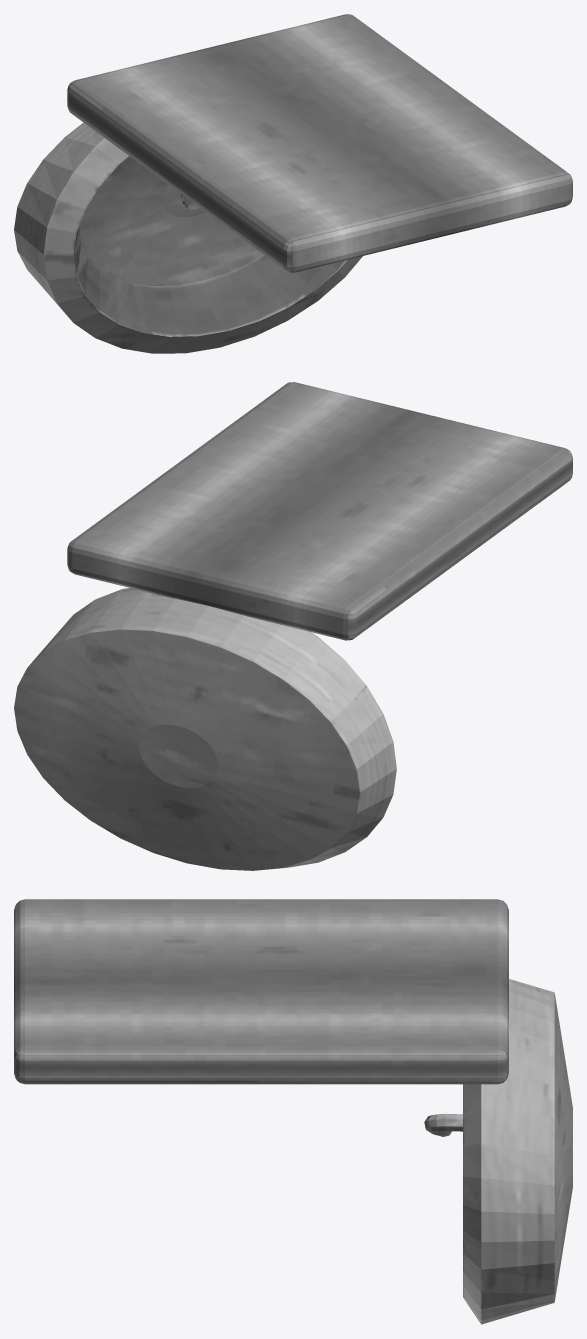
File: pz_sink_fancy_hanging.obj
3 views of the same model, one above another, from view 1: azimuth 30°, elevation 25°; view 2: azimuth 150°, elevation 25°; view 3: azimuth 270°, elevation 25° (orthographic). The views are drawn at different scales.
Parts seen in each view (by area): view 1: pz_sink_fancy_hanging_|_wall_backplate, pz_sink_fancy_hanging_|_rounded_open_drinking_fountain_bowl; view 2: pz_sink_fancy_hanging_|_rounded_open_drinking_fountain_bowl, pz_sink_fancy_hanging_|_wall_backplate; view 3: pz_sink_fancy_hanging_|_wall_backplate, pz_sink_fancy_hanging_|_rounded_open_drinking_fountain_bowl, pz_sink_fancy_hanging_|_curved_bubbler.
Part boxes in pixels (box(x1,y1,x2,y2)): pz_sink_fancy_hanging_|_wall_backplate: box(67, 14, 572, 272); pz_sink_fancy_hanging_|_rounded_open_drinking_fountain_bowl: box(14, 122, 362, 353); pz_sink_fancy_hanging_|_rounded_open_drinking_fountain_bowl: box(14, 588, 396, 870); pz_sink_fancy_hanging_|_wall_backplate: box(67, 382, 572, 640); pz_sink_fancy_hanging_|_wall_backplate: box(14, 899, 508, 1084); pz_sink_fancy_hanging_|_rounded_open_drinking_fountain_bowl: box(463, 979, 572, 1324); pz_sink_fancy_hanging_|_curved_bubbler: box(424, 1113, 462, 1136).
Bounding box in the file's own units: 0.49 × 0.39 × 0.61.
1 material, 1 textured.
